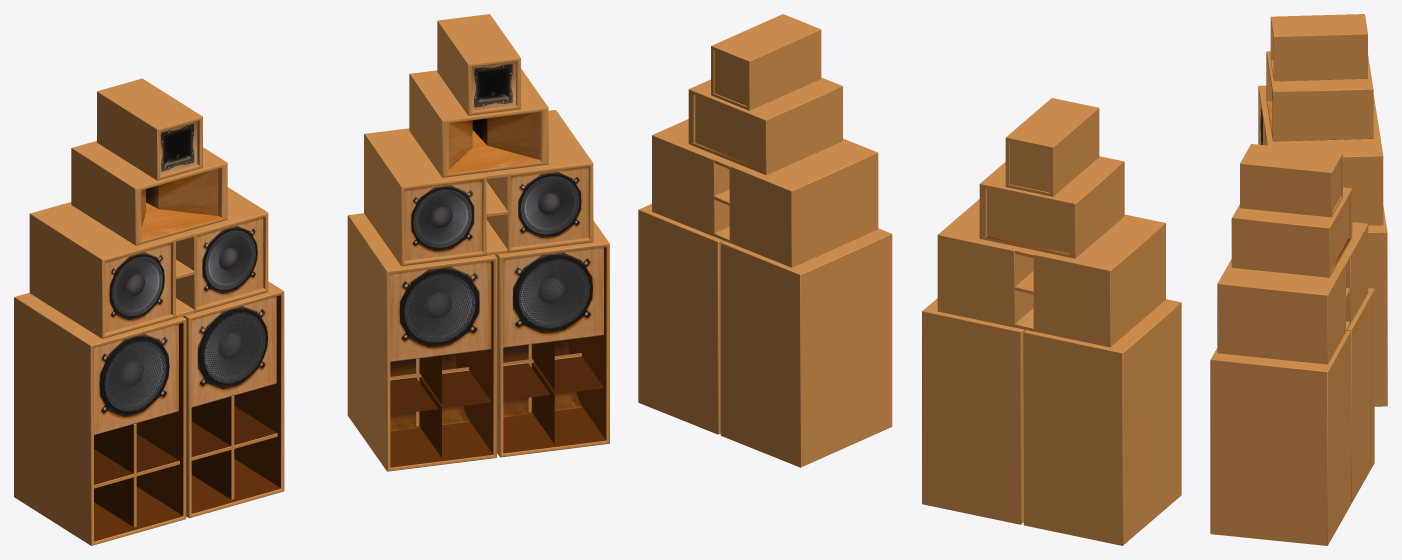
The picture shows the model from 3 angles, left to right: view 1: azimuth 30°, elevation 25°; view 2: azimuth 150°, elevation 25°; view 3: azimuth 270°, elevation 25°; orthographic projection. The views are drawn at different scales.
Visible parts, largest first — view 1: Cube, Cube.008, Cube.004, Cube.013, Cube.002, Cube.011, Cube.009, Cube.005, Cube.010, Cube.014, Circle.013, Cube.001 (+15 smaller); view 2: Cube, Cube.008, Cube.004, Cube.013, Cube.014, Cube.005, Cube.016, Cube.010; view 3: Cube.008, Cube.013, Cube.014, Cube.005, Cube.016, Cube.010, Cube.004, Cube.
Part boxes in pixels (x1,y1,x2,y2): Cube: (14, 281, 284, 545); Cube.008: (347, 213, 609, 471); Cube.004: (29, 187, 268, 338); Cube.013: (364, 110, 593, 266); Cube.002: (94, 395, 277, 527); Cube.011: (390, 341, 603, 457); Cube.009: (390, 247, 603, 361); Cube.005: (71, 141, 227, 245); Cube.010: (97, 78, 202, 180); Cube.014: (409, 69, 548, 177); Circle.013: (402, 258, 590, 343); Cube.001: (94, 296, 276, 435); Cube: (922, 298, 1181, 545); Cube.008: (638, 204, 892, 467); Cube.004: (937, 199, 1165, 347); Cube.013: (652, 119, 878, 267); Cube.014: (688, 77, 842, 174); Cube.005: (979, 156, 1124, 258); Cube.016: (711, 14, 821, 110); Cube.010: (1005, 98, 1099, 196); Cube.008: (1210, 288, 1374, 545); Cube.013: (1217, 222, 1368, 364); Cube.014: (1231, 187, 1352, 277); Cube.005: (1266, 51, 1373, 141); Cube.016: (1240, 144, 1342, 217); Cube.010: (1270, 14, 1367, 81); Cube.004: (1258, 85, 1383, 225); Cube: (1368, 206, 1387, 406).
Size of the model in its own units: 6.54 by 4.61 by 2.18.
Materials: 9 (9 with a texture image).
